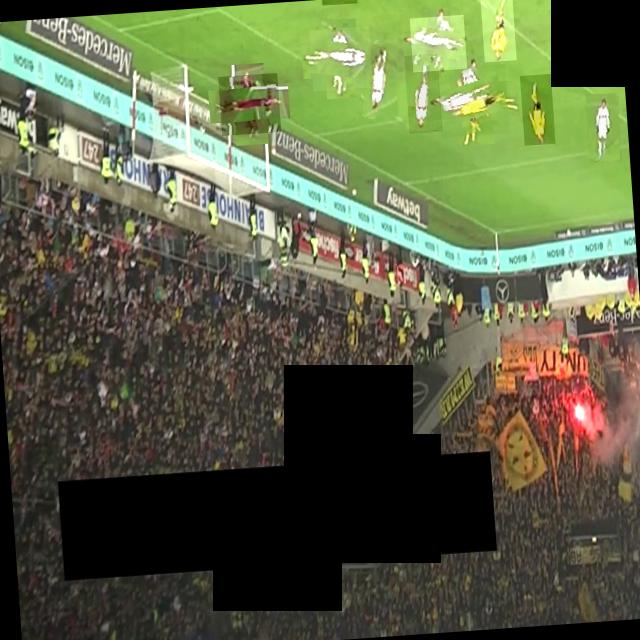goalkeeper: (218, 72, 281, 136)
referee: (582, 6, 622, 62)
soccer-player: (436, 64, 509, 138), (309, 26, 373, 91), (409, 14, 467, 72), (360, 42, 400, 119), (404, 54, 442, 134), (584, 92, 622, 163), (520, 74, 556, 146), (479, 0, 516, 62), (322, 0, 357, 5)
